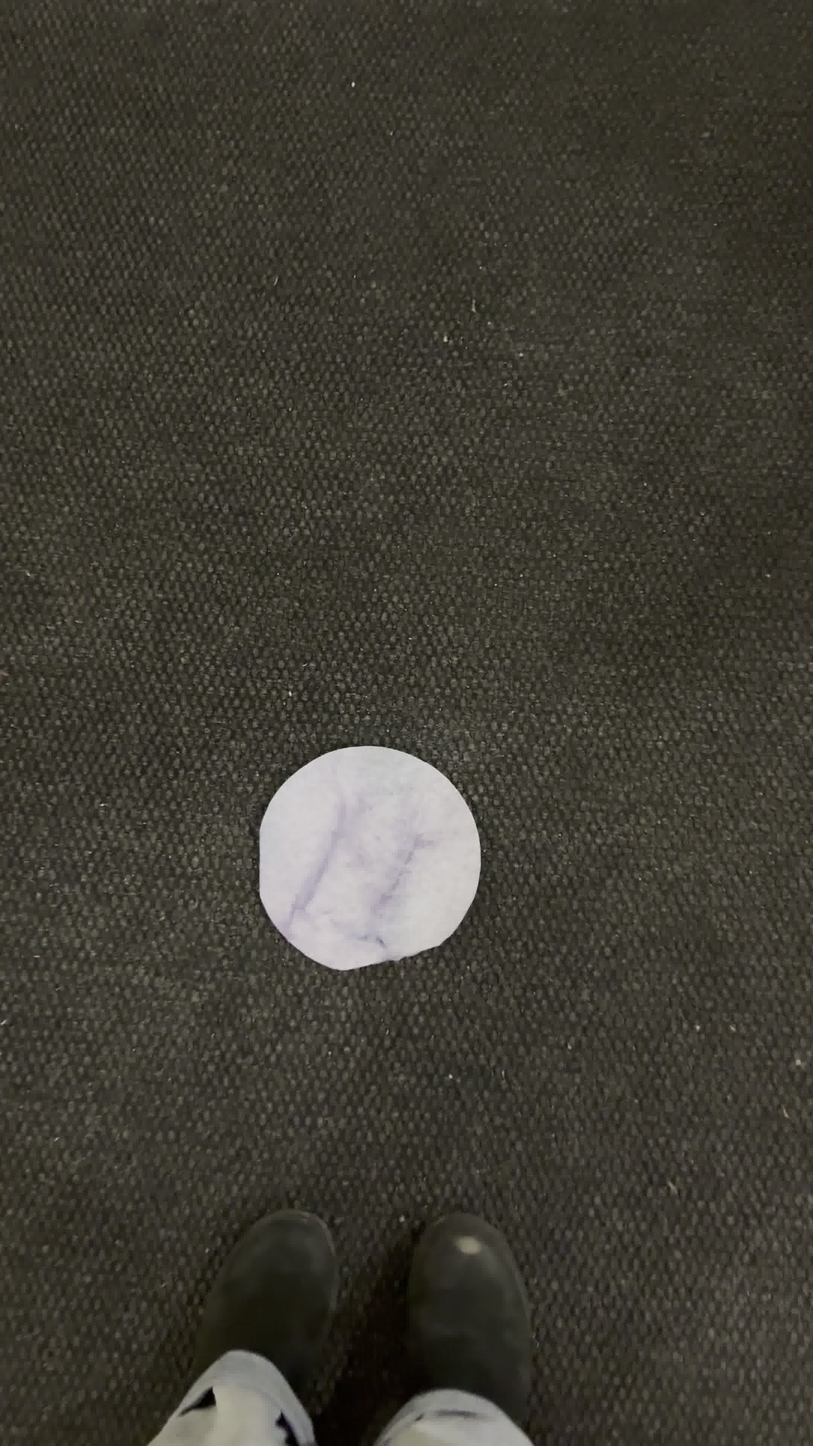Target: (256, 741, 484, 971)
